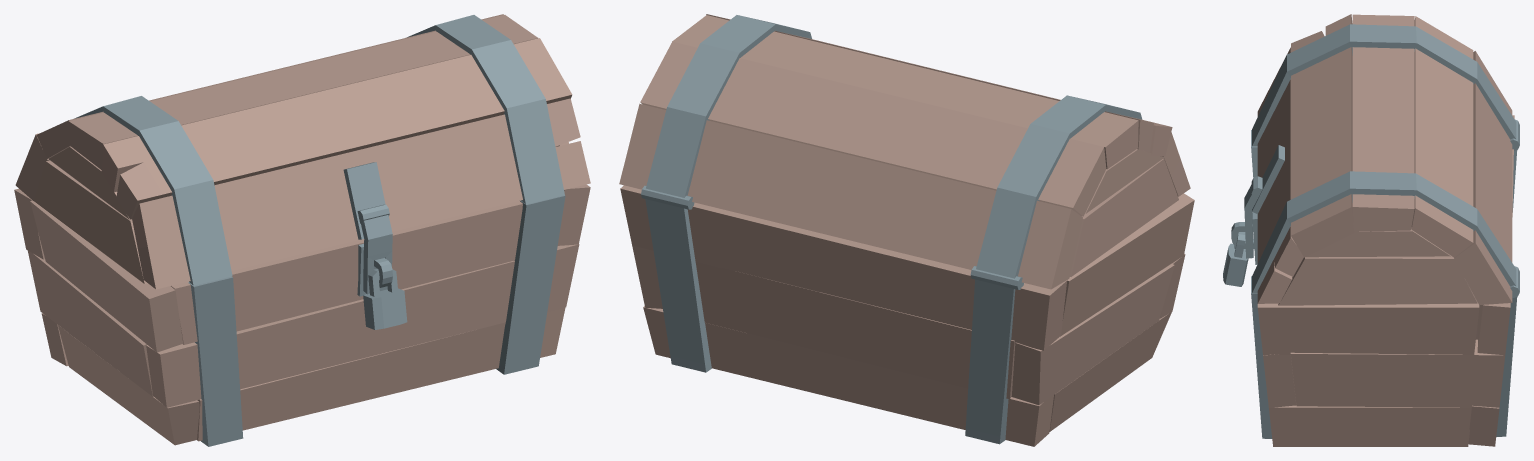
Rendered from Treasure_Trunk_01.gltf.
3 views of the same model, side by side, from view 1: azimuth 30°, elevation 25°; view 2: azimuth 150°, elevation 25°; view 3: azimuth 270°, elevation 25° (orthographic). The views are drawn at different scales.
Visible parts, largest first — view 1: node-0; view 2: node-0; view 3: node-0.
Boxes of the visible parts, bbox=[...] form: node-0: bbox=[14, 14, 590, 446]; node-0: bbox=[619, 14, 1194, 446]; node-0: bbox=[1223, 14, 1519, 446].
Size of the model in its own units: 13.13 by 8.15 by 8.44.
